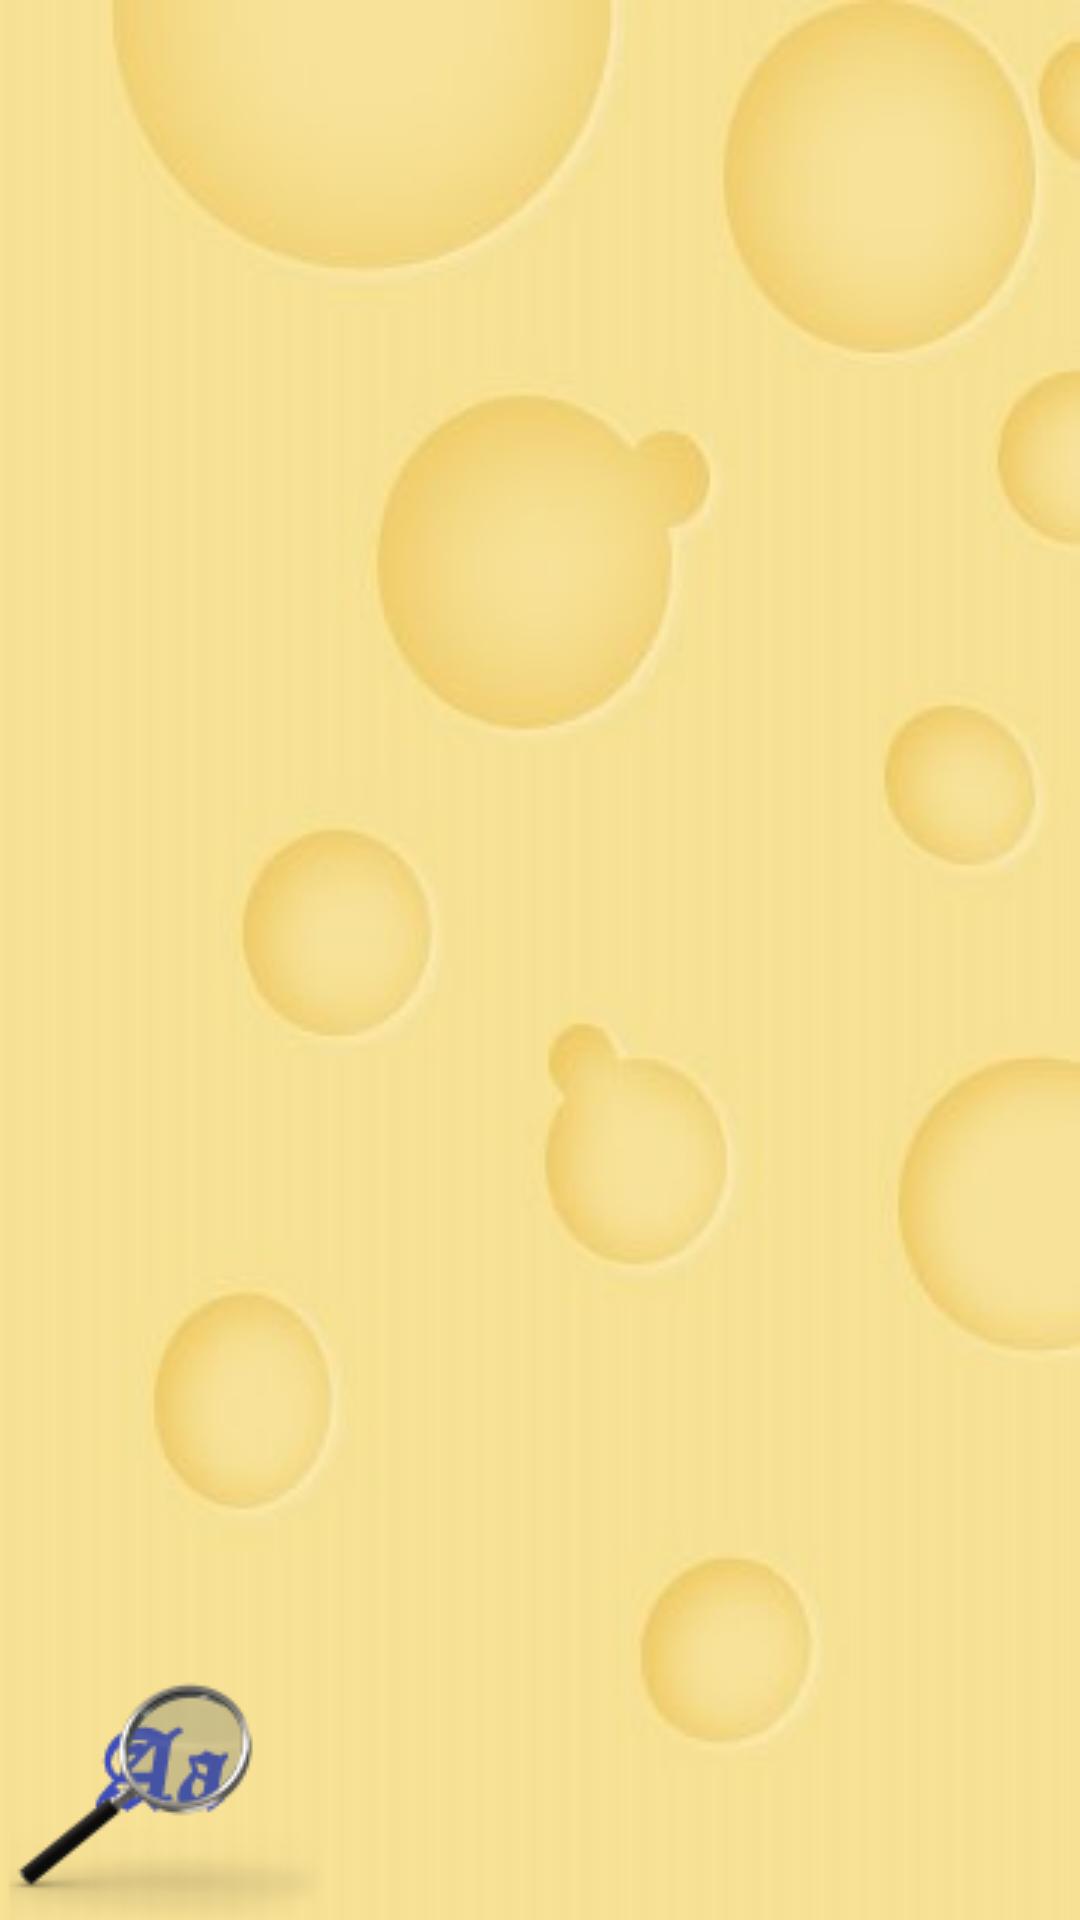

Icon bounding boxes for this 1080 × 1920 phone screenshot, format (x1, y1, x2, y2):
selectorfindicon: (14, 1684, 253, 1891)
